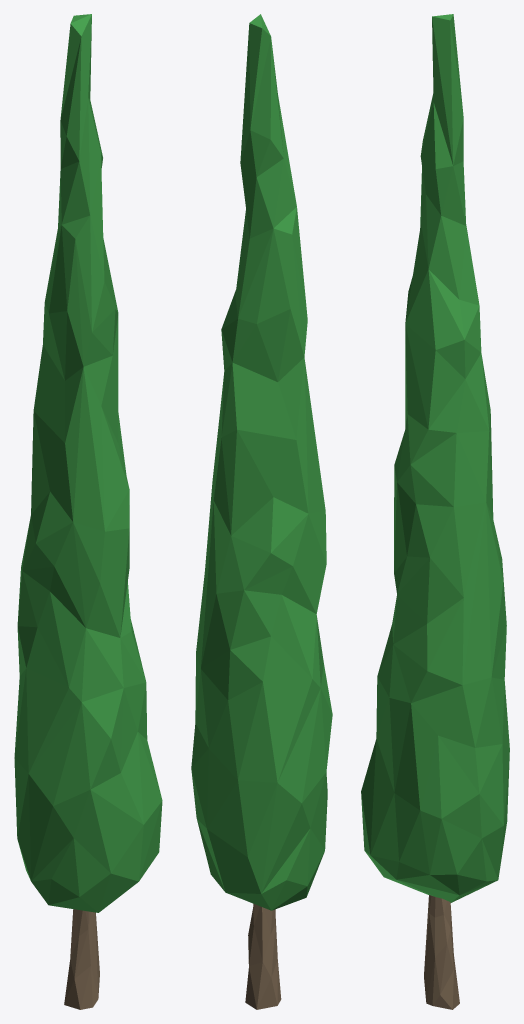
Rendered from pine_L.FBX.
The picture shows the model from 3 angles, left to right: view 1: azimuth 90°, elevation 25°; view 2: azimuth 150°, elevation 25°; view 3: azimuth 270°, elevation 25°; orthographic projection.
Visible parts, largest first — view 1: pine_L; view 2: pine_L; view 3: pine_L.
Part boxes in pixels (x1,y1,x2,y2): pine_L: [14, 14, 162, 1009]; pine_L: [191, 14, 332, 1009]; pine_L: [361, 14, 509, 1009].
Size of the model in its own units: 2.55 by 19.55 by 2.66.
